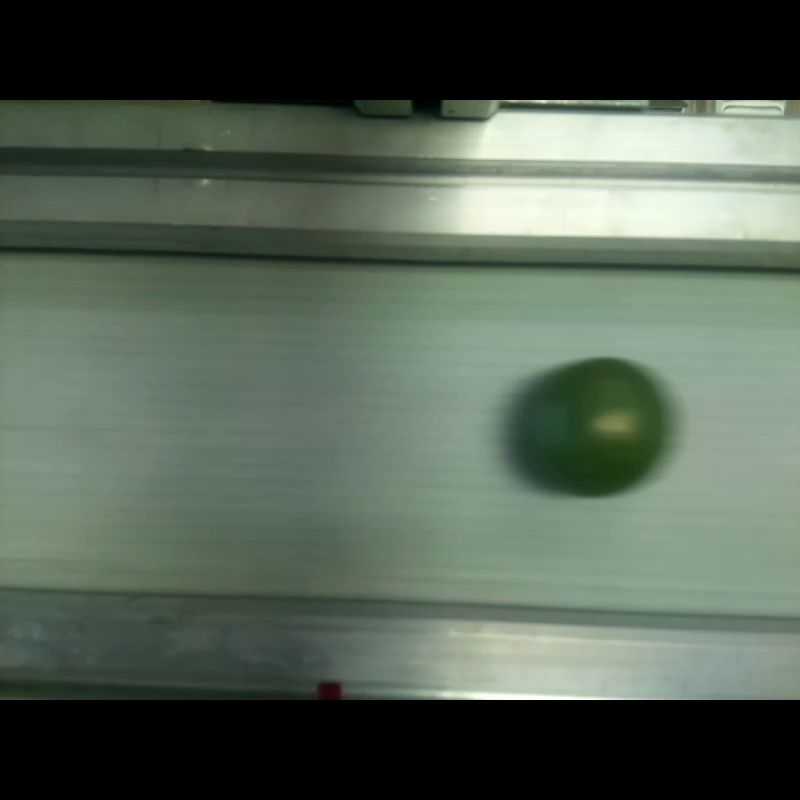lime: (520, 357, 668, 494)
